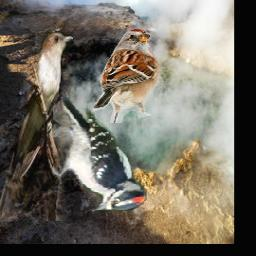Cuckoo: (0, 33, 74, 222)
Sparrow: (93, 27, 159, 123)
Woodpecker: (54, 92, 148, 214)
